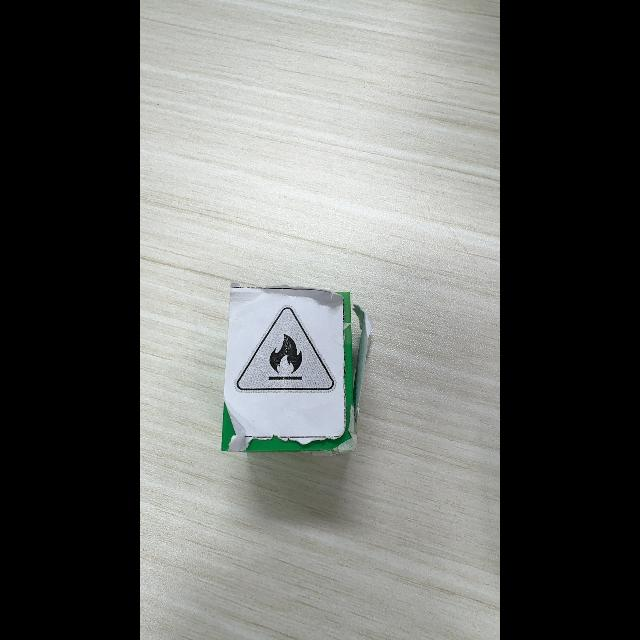Fire: (235, 307, 335, 392)
